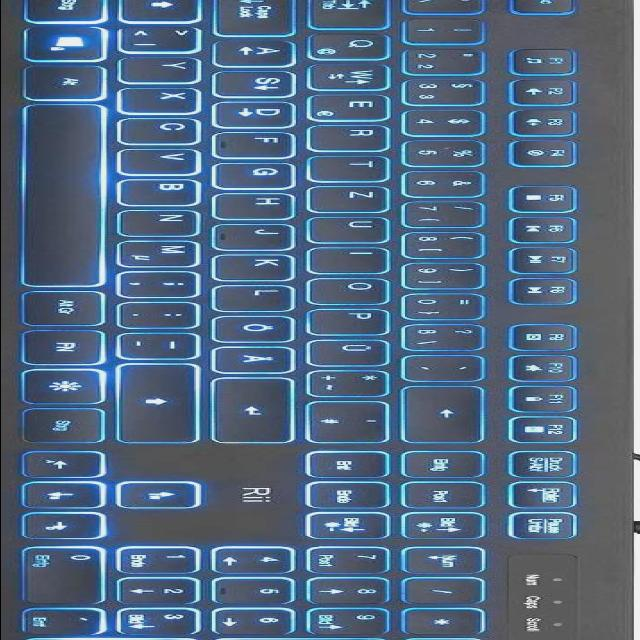0: (406, 291, 492, 318)
1: (410, 17, 490, 43)
2: (408, 47, 490, 74)
3: (406, 77, 490, 105)
4: (408, 108, 492, 135)
5: (408, 139, 492, 166)
6: (408, 169, 492, 196)
7: (406, 200, 490, 226)
8: (406, 230, 490, 257)
9: (406, 261, 492, 288)
a: (220, 38, 302, 65)
accent: (408, 353, 492, 380)
ae: (216, 344, 302, 372)
alt-left: (29, 63, 113, 99)
altgr-right: (29, 289, 113, 325)
b: (122, 177, 208, 205)
c: (124, 116, 208, 143)
caret: (410, 1, 492, 13)
comma: (124, 270, 208, 297)
d: (218, 99, 304, 126)
del: (406, 384, 490, 442)
e: (313, 93, 397, 120)
enter: (215, 375, 301, 441)
f: (218, 130, 302, 156)
g: (218, 161, 302, 187)
h: (218, 191, 300, 218)
hash: (311, 399, 395, 442)
i: (311, 245, 395, 272)
j: (218, 222, 302, 249)
k: (216, 253, 302, 279)
keyboard: (1, 0, 635, 640)
l: (216, 283, 302, 310)
less: (124, 25, 210, 51)
m: (120, 238, 206, 266)
minus: (122, 331, 208, 358)
n: (122, 208, 208, 235)
o: (311, 276, 397, 303)
oe: (217, 314, 301, 341)
p: (311, 307, 397, 333)
plus: (311, 369, 395, 396)
point: (124, 300, 208, 327)
q: (313, 31, 397, 59)
r: (311, 123, 395, 149)
s: (218, 70, 304, 96)
shift-left: (124, 0, 208, 21)
shift-lock: (218, 0, 302, 35)
shift-right: (122, 362, 206, 442)
space: (27, 102, 111, 286)
ss: (406, 322, 492, 349)
strg-left: (31, 0, 115, 21)
strg-right: (27, 406, 111, 443)
t: (313, 154, 395, 180)
tab: (313, 0, 397, 28)
u: (311, 215, 397, 241)
ue: (311, 338, 397, 365)
v: (122, 147, 208, 174)
w: (313, 62, 399, 89)
x: (124, 86, 208, 113)
y: (124, 56, 208, 82)
z: (311, 184, 397, 211)
